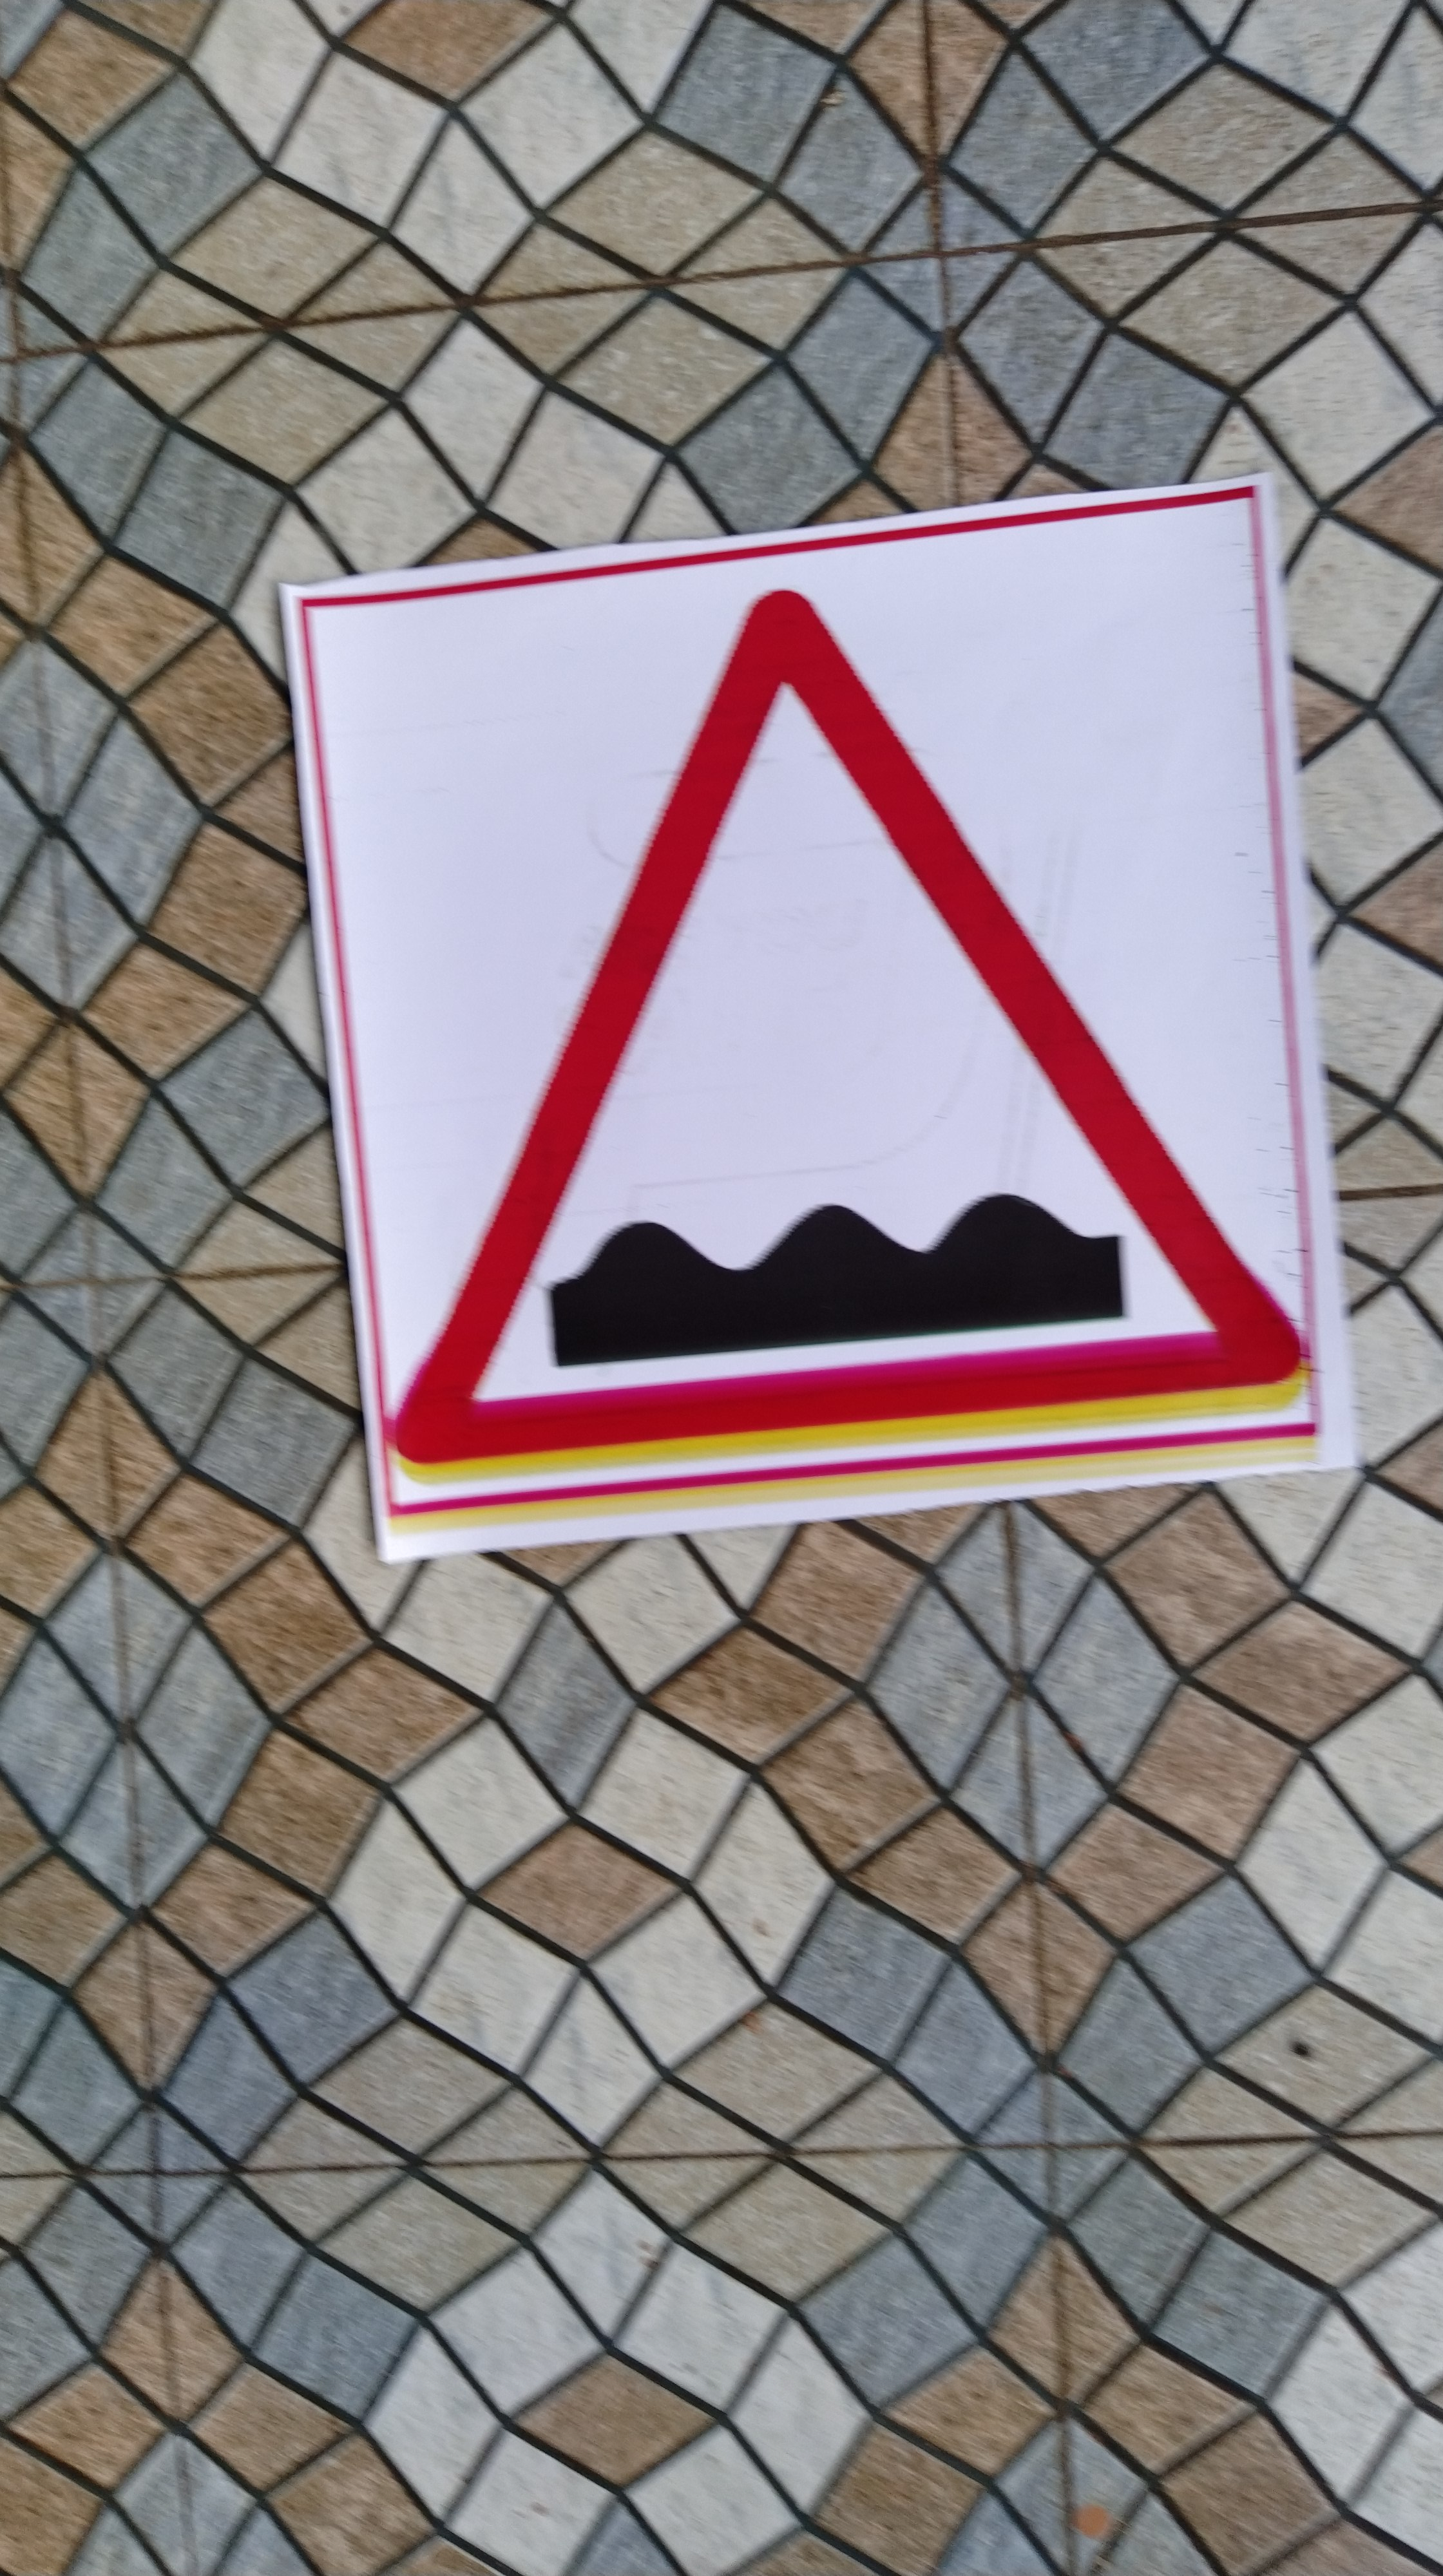speed breaker: (324, 589, 1328, 1476)
